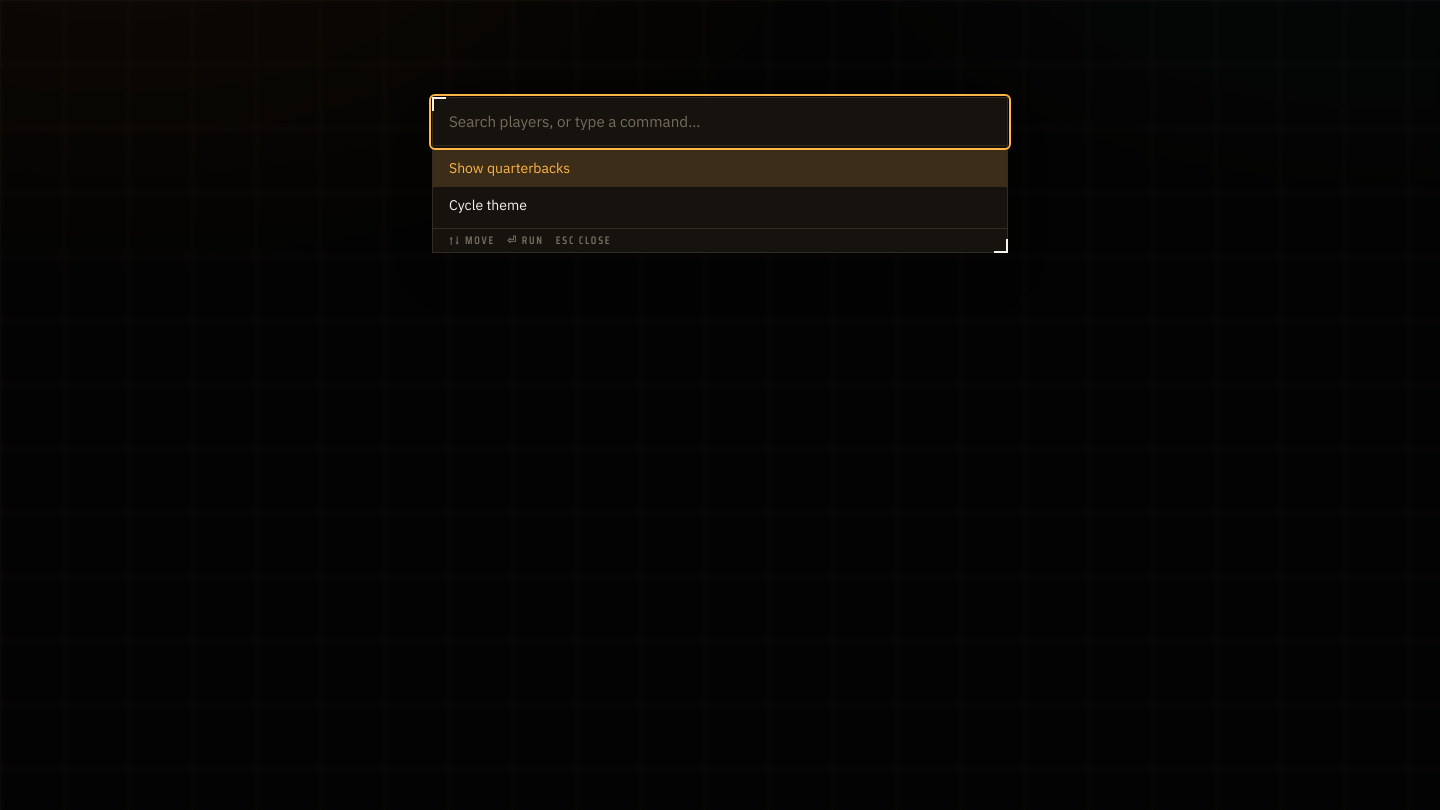
Test: CommandPalette › finds players once a query is long enough
Type "alpha" into the field. click: coordinates (720, 122)
box: [433, 98, 1007, 146]
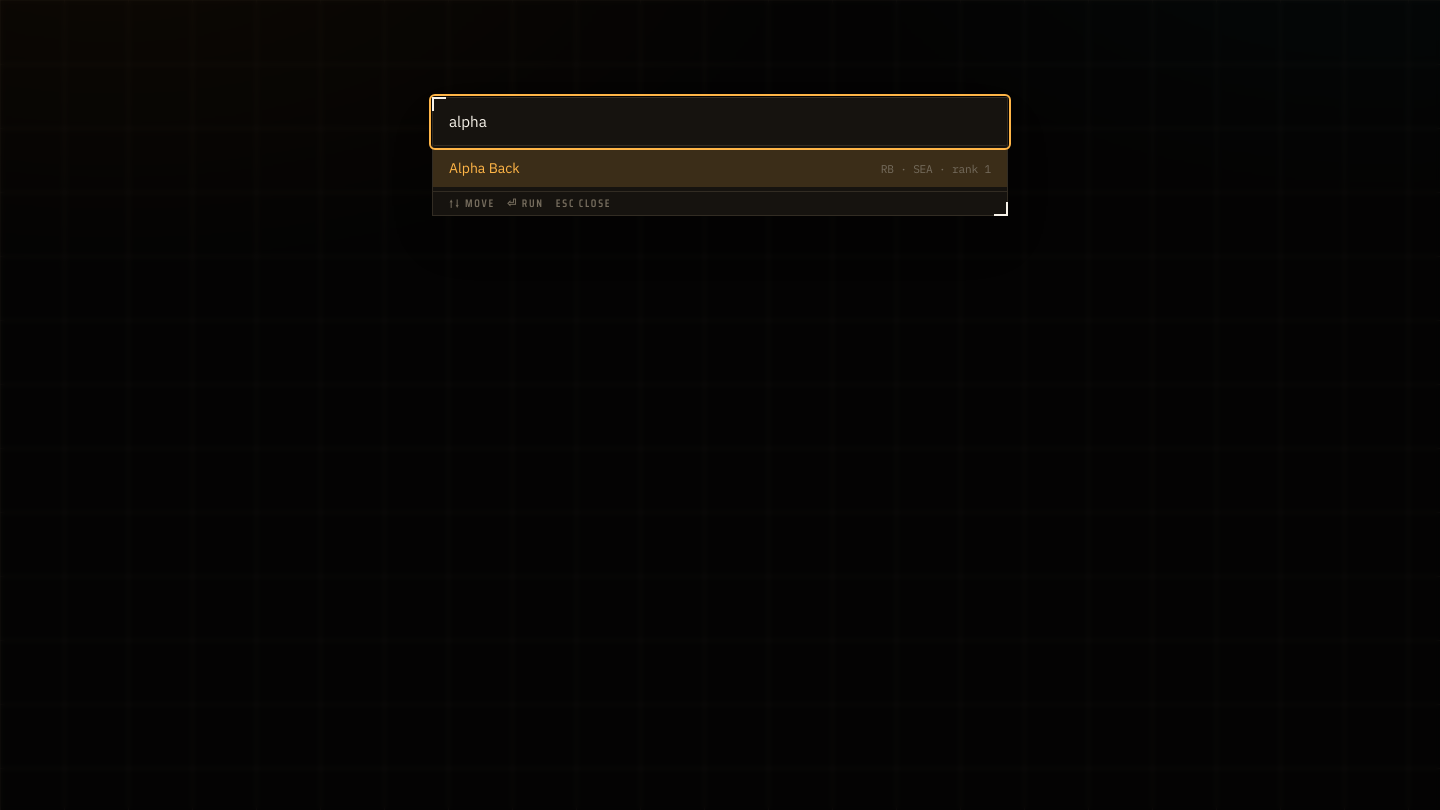
Now the text "Alpha Back" is shown, box [449, 158, 520, 179]
